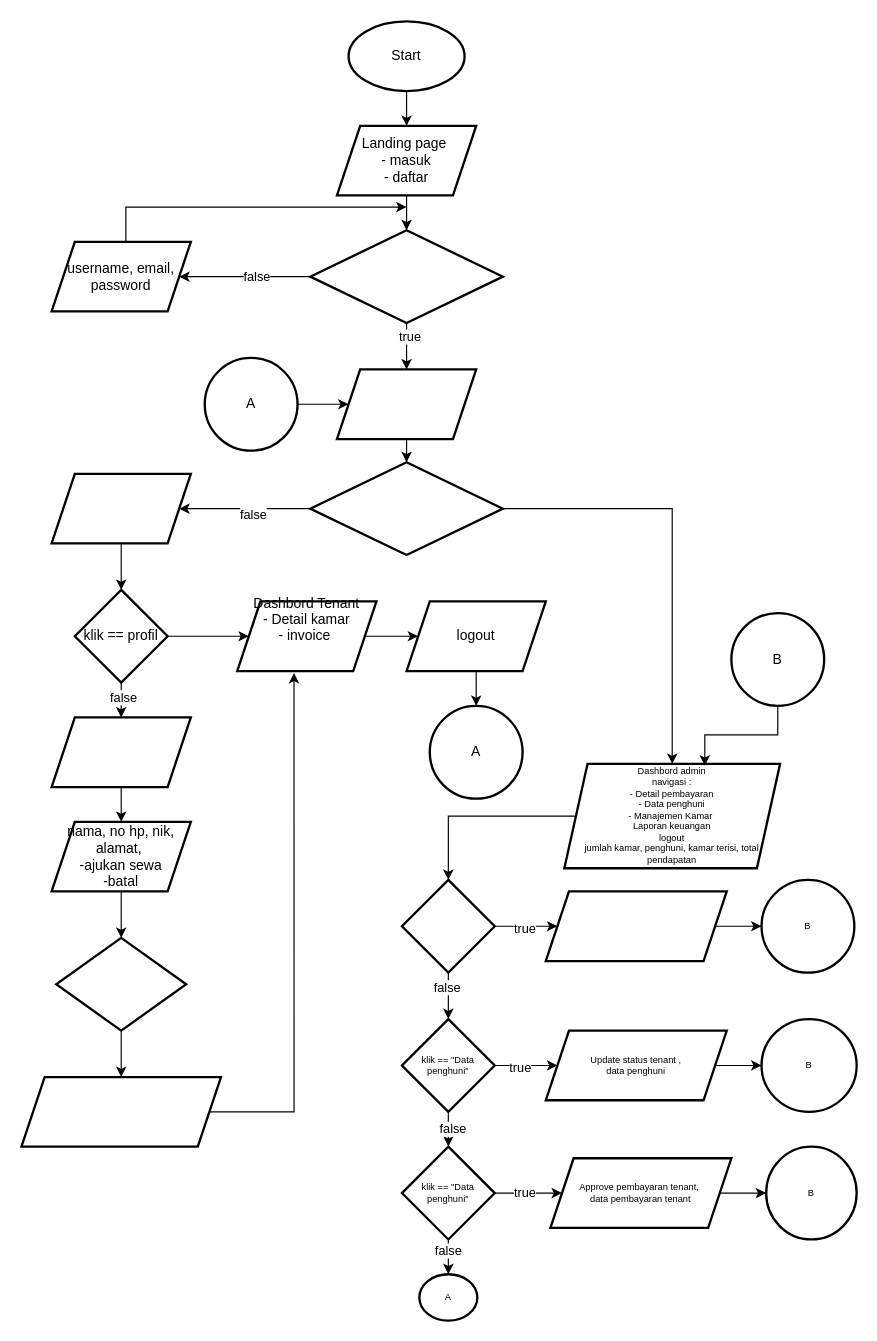
This 877x1341 diagram has some shape labels left out. The centre of each missing label's shape, as x and y in pixels:
Create, Update, Delete, Read Kamar: the point at 635,926
email == "admin@gmail.com"?: the point at 406,508
foto kamar, nomor kamar, fasilitas, harga - Ajukan sewa: the point at 120,752
input email & pw: the point at 406,404
klik == "manajemen kamar": the point at 447,925
klik == masuk: the point at 406,276
klik= ajukan sewa ?: the point at 121,983
landing page -profil user - galeri kamar (lihat detail kamar): the point at 120,508
pilih metode, upload bukti pembayaran: the point at 121,1111
